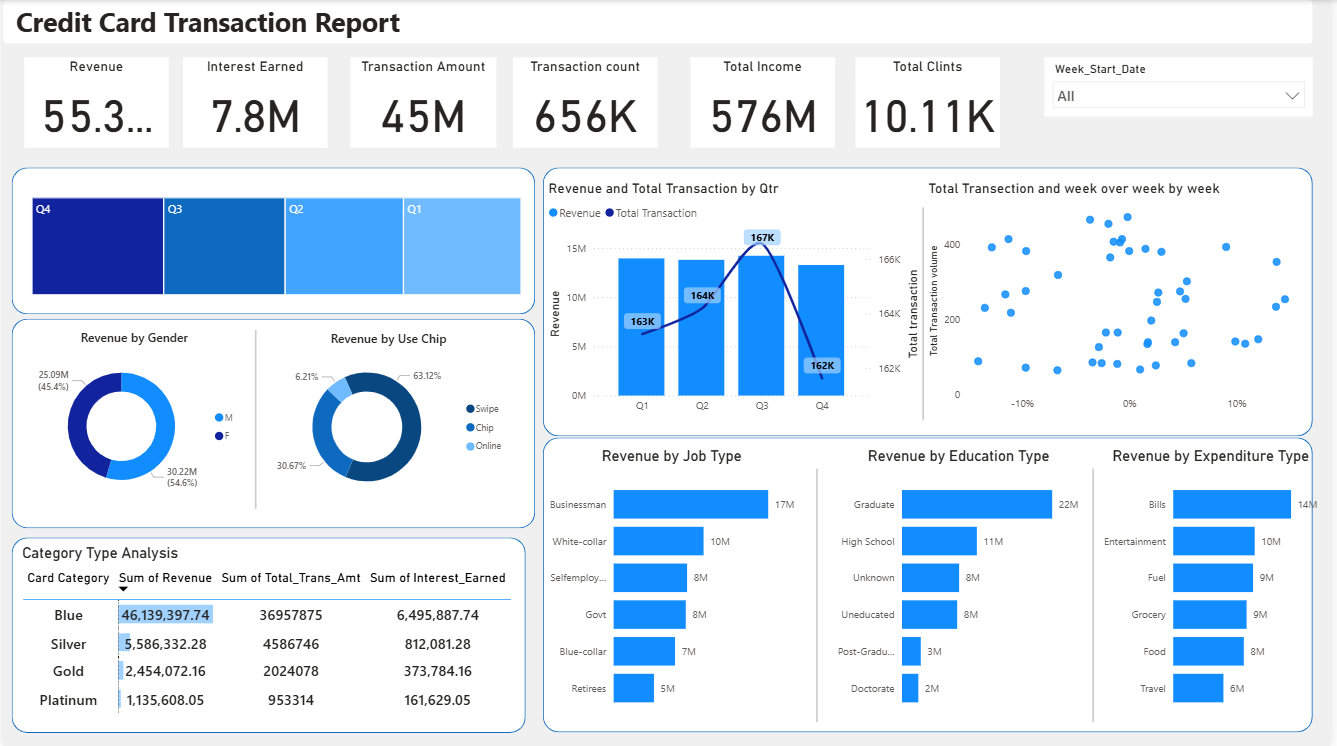

The page's visual inventory and layout, read from the dashboard file:
{"tool":"powerbi","page":{"name":"CC Transaction","canvas":[1600,900],"ordinal":0},"visuals":[{"type":"shape","box":[0,0,1580,52.9],"z":0},{"type":"shape","box":[651.4,201.4,928.6,324.3],"z":1000},{"type":"shape","box":[10,201.4,631.4,177.1],"z":2000},{"type":"shape","box":[10,648.3,631.7,236.7],"z":3000},{"type":"shape","box":[651.4,528.6,928.6,355.7],"z":4000},{"type":"shape","box":[10,384.3,631.4,252.9],"z":5000},{"type":"textbox","box":[10,0,497.1,52.9],"z":6000},{"type":"lineStackedColumnComboChart","fields":{"Category":["public cc_detail.Qtr"],"Y":["Sum(public cc_detail.Revenue)"],"Y2":["Sum(public cc_detail.Total_Trans_Vol)"]},"box":[652.9,217.1,457.1,290],"z":7000},{"type":"barChart","title":"Revenue by Expenditure Type","fields":{"Category":["public cc_detail.Exp Type"],"Y":["Sum(public cc_detail.Revenue)"]},"box":[1316.7,546.7,263.3,331.7],"z":8000},{"type":"barChart","title":"Revenue by Education Type","fields":{"Category":["public cust_detail.Education_Level"],"Y":["Sum(public cc_detail.Revenue)"]},"box":[991.4,540,324.3,331.4],"z":9000},{"type":"barChart","title":"Revenue by Job Type","fields":{"Category":["public cust_detail.Customer_Job"],"Y":["Sum(public cc_detail.Revenue)"]},"box":[641.4,540,331.4,331.4],"z":10000},{"type":"tableEx","title":"Category Type Analysis","fields":{"Values":["public cc_detail.Card_Category","Sum(public cc_detail.Revenue)","Sum(public cc_detail.Total_Trans_Amt)","Sum(public cc_detail.Interest_Earned)"]},"box":[18.6,655.7,604.3,222.9],"z":11000},{"type":"card","title":"Revenue","fields":{"Values":["Sum(public cc_detail.Revenue)"]},"box":[25.7,70,174.3,108.6],"z":12000},{"type":"card","title":"Transaction count","fields":{"Values":["Sum(public cc_detail.Total_Trans_Vol)"]},"box":[615.7,70,174.3,108.6],"z":13000},{"type":"card","title":"Transaction Amount","fields":{"Values":["Sum(public cc_detail.Total_Trans_Amt)"]},"box":[418.6,70,175.7,108.6],"z":14000},{"type":"card","title":"Interest Earned","fields":{"Values":["Sum(public cc_detail.Interest_Earned)"]},"box":[217.1,70,174.3,108.6],"z":15000},{"type":"slicer","fields":{"Values":["public cc_detail.Week_Start_Date"]},"box":[1255.7,70,324.3,71.4],"z":16000},{"type":"donutChart","title":"Revenue by Gender","fields":{"Category":["public cust_detail.Gender"],"Y":["Sum(public cc_detail.Revenue)"]},"box":[25.7,397.1,265.7,215.7],"z":17000},{"type":"donutChart","title":"Revenue by Use Chip","fields":{"Category":["public cc_detail.Use Chip"],"Y":["Sum(public cc_detail.Revenue)"]},"box":[315.7,398.6,300,214.3],"z":18000},{"type":"shape","box":[281.4,398.6,45.7,215.7],"z":19000},{"type":"shape","box":[958.6,565.7,45.7,305.7],"z":20000},{"type":"shape","box":[1293.3,565,45,306.7],"z":21000},{"type":"scatterChart","title":"Total Transection and week over week by week","fields":{"Category":["public cc_detail.Week_Num2"],"X":["public cc_detail.wow_revenue"],"Y":["Sum(public cc_detail.Total_Trans_Vol)"]},"box":[1111.4,217.1,458.6,288.6],"z":22000},{"type":"shape","box":[1087.1,250,45.7,257.1],"z":23000},{"type":"treemap","fields":{"Group":["public cc_detail.Qtr"],"Values":["Avg(public cc_detail.Client_Num)"]},"box":[30,234.3,600,127.1],"z":24000},{"type":"card","title":"Total Income","fields":{"Values":["Sum(public cust_detail.Income)"]},"box":[830,70,174.3,108.6],"z":25000},{"type":"card","title":"Total Clints","fields":{"Values":["CountNonNull(public cust_detail.Client_Num)"]},"box":[1028.6,70,174.3,108.6],"z":26000}]}

Visuals, with their boxes in screenshot pixels (x1, y1, x2, y2), scaled from the page's 1600x900 canvas onto the 1337x746 screenshot:
shape: BBox(0, 0, 1320, 44)
shape: BBox(544, 167, 1320, 436)
shape: BBox(8, 167, 536, 314)
shape: BBox(8, 537, 536, 734)
shape: BBox(544, 438, 1320, 733)
shape: BBox(8, 319, 536, 528)
textbox: BBox(8, 0, 424, 44)
lineStackedColumnComboChart - public cc_detail.Qtr x Sum(public cc_detail.Revenue): BBox(546, 180, 928, 420)
"Revenue by Expenditure Type" barChart: BBox(1100, 453, 1320, 728)
"Revenue by Education Type" barChart: BBox(828, 448, 1099, 722)
"Revenue by Job Type" barChart: BBox(536, 448, 813, 722)
"Category Type Analysis" tableEx: BBox(16, 544, 521, 728)
"Revenue" card: BBox(21, 58, 167, 148)
"Transaction count" card: BBox(514, 58, 660, 148)
"Transaction Amount" card: BBox(350, 58, 497, 148)
"Interest Earned" card: BBox(181, 58, 327, 148)
slicer - public cc_detail.Week_Start_Date: BBox(1049, 58, 1320, 117)
"Revenue by Gender" donutChart: BBox(21, 329, 244, 508)
"Revenue by Use Chip" donutChart: BBox(264, 330, 514, 508)
shape: BBox(235, 330, 273, 509)
shape: BBox(801, 469, 839, 722)
shape: BBox(1081, 468, 1118, 723)
"Total Transection and week over week by week" scatterChart: BBox(929, 180, 1312, 419)
shape: BBox(908, 207, 947, 420)
treemap - public cc_detail.Qtr x Avg(public cc_detail.Client_Num): BBox(25, 194, 526, 300)
"Total Income" card: BBox(694, 58, 839, 148)
"Total Clints" card: BBox(860, 58, 1005, 148)
